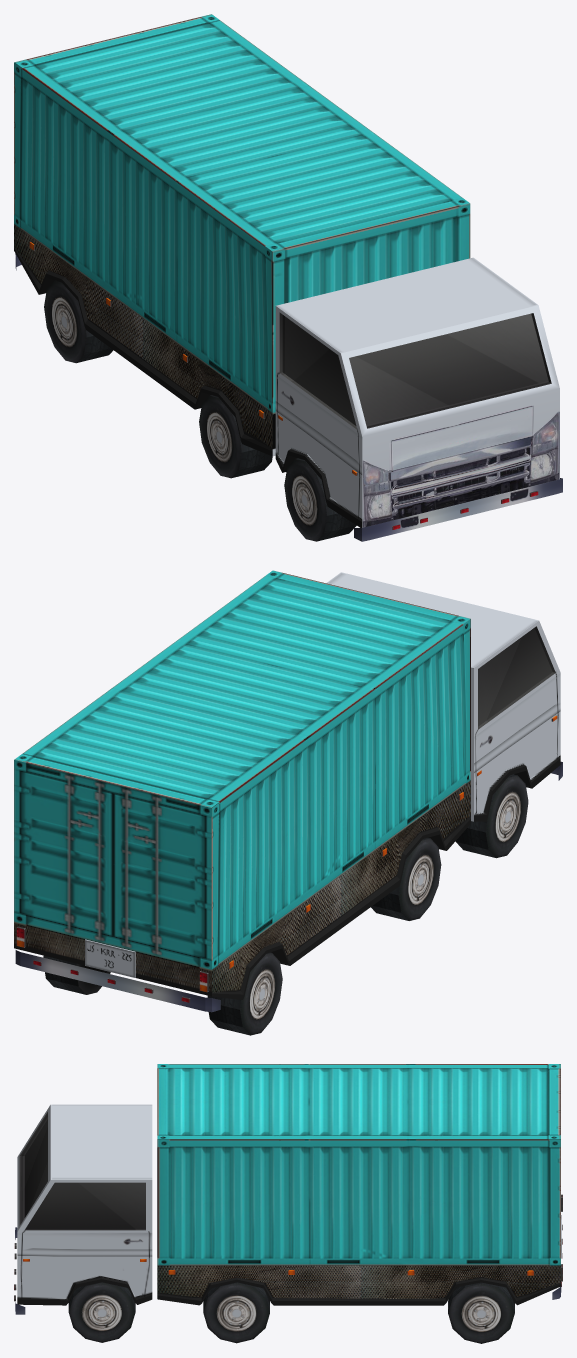
File: mini_truck.fbx
3 renders of one model, top to bottom at view 1: azimuth 30°, elevation 25°; view 2: azimuth 150°, elevation 25°; view 3: azimuth 270°, elevation 25°, orthographic. The views are drawn at different scales.
Visible parts, largest first — view 1: body, pCylinder85, pCylinder84, pCylinder86; view 2: body, pCylinder84, pCylinder86, pCylinder85, pCylinder83; view 3: body, pCylinder83, pCylinder82, pCylinder81.
Part boxes in pixels (<box>): body: <box>14,14,562,541</box>; pCylinder85: <box>199,395,272,478</box>; pCylinder84: <box>284,458,356,541</box>; pCylinder86: <box>44,280,113,363</box>; body: <box>14,570,562,1012</box>; pCylinder84: <box>455,774,528,858</box>; pCylinder86: <box>207,952,282,1035</box>; pCylinder85: <box>371,838,441,920</box>; pCylinder83: <box>43,955,110,994</box>; body: <box>14,1064,562,1314</box>; pCylinder83: <box>448,1282,514,1343</box>; pCylinder82: <box>203,1282,269,1343</box>; pCylinder81: <box>68,1282,135,1342</box>.
Bounding box in the file's own units: 8.86 × 10.81 × 26.33.
1 material, 1 textured.
